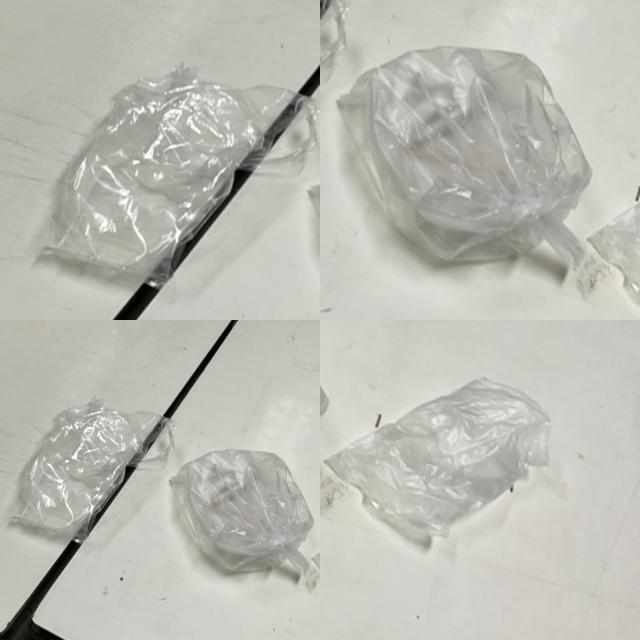Single-layer Plastic: (45, 66, 316, 288), (338, 46, 591, 266), (325, 379, 550, 542), (15, 399, 175, 542), (170, 449, 314, 575)
